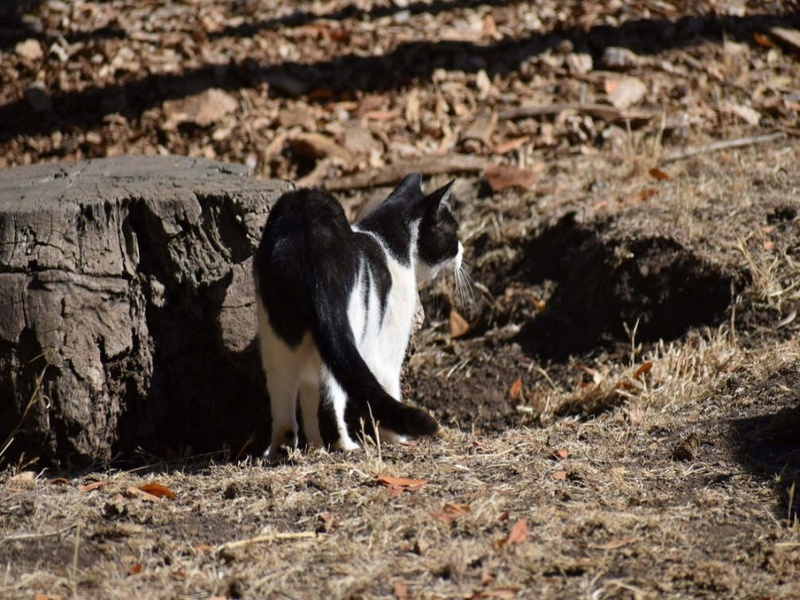cat: (255, 169, 475, 476)
